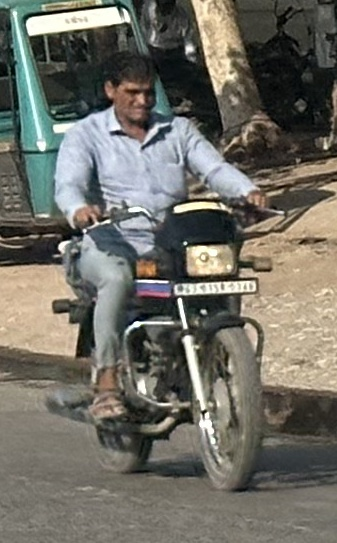BikeWithRider: (35, 43, 291, 497)
NoHelmet: (92, 46, 167, 128)
